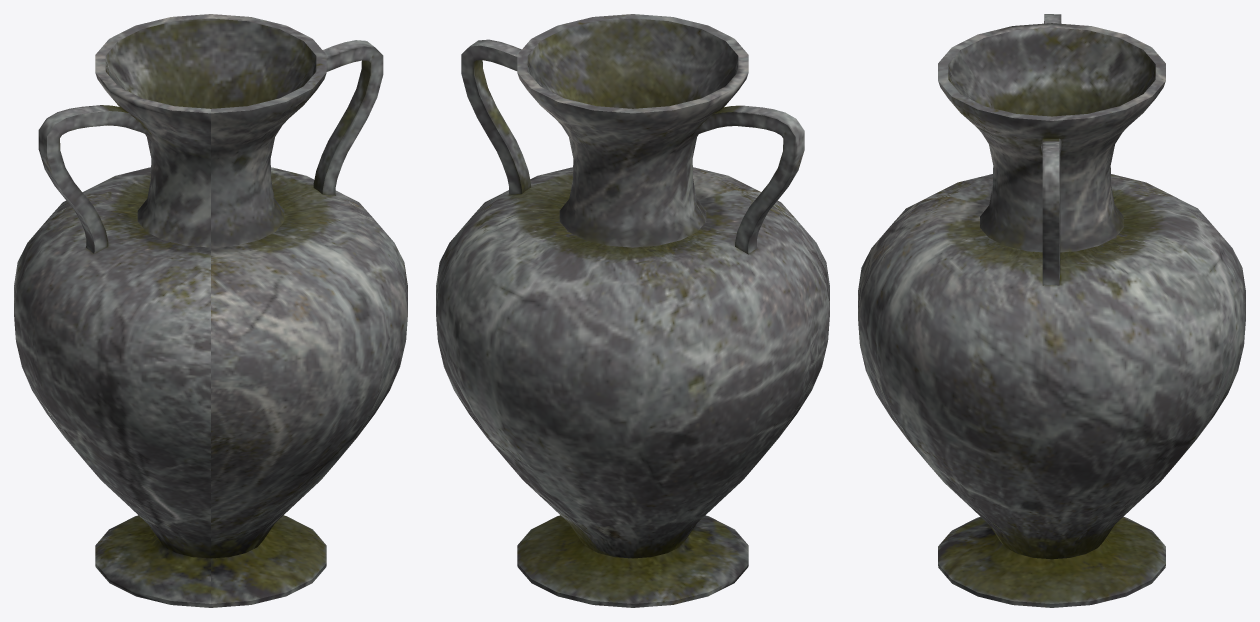
The model's file is SM_Prop_Vases_C.fbx.
3 views of the same model, side by side, from view 1: azimuth 30°, elevation 25°; view 2: azimuth 150°, elevation 25°; view 3: azimuth 270°, elevation 25° (orthographic).
Parts seen in each view (by area): view 1: SM_Prop_Vases_C_LOD0; view 2: SM_Prop_Vases_C_LOD0; view 3: SM_Prop_Vases_C_LOD0.
Boxes of the visible parts, bbox=[...] form: SM_Prop_Vases_C_LOD0: bbox=[14, 14, 407, 607]; SM_Prop_Vases_C_LOD0: bbox=[436, 14, 829, 607]; SM_Prop_Vases_C_LOD0: bbox=[858, 14, 1245, 607].
Bounding box in the file's own units: 57.6 × 56.73 × 78.61.
1 material, 1 textured.
